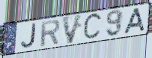9: (105, 9, 124, 38)
A: (123, 6, 146, 35)
C: (82, 11, 104, 42)
J: (20, 22, 38, 50)
R: (40, 18, 61, 48)
V: (61, 13, 84, 46)
